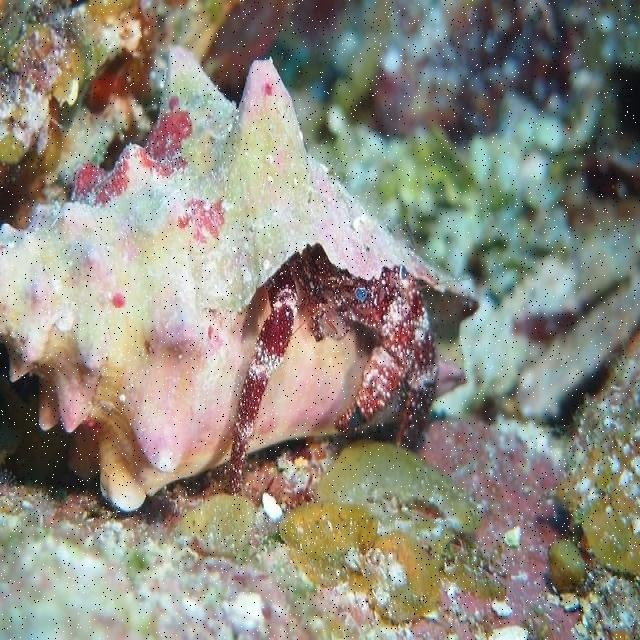reefs: (0, 46, 479, 515)
